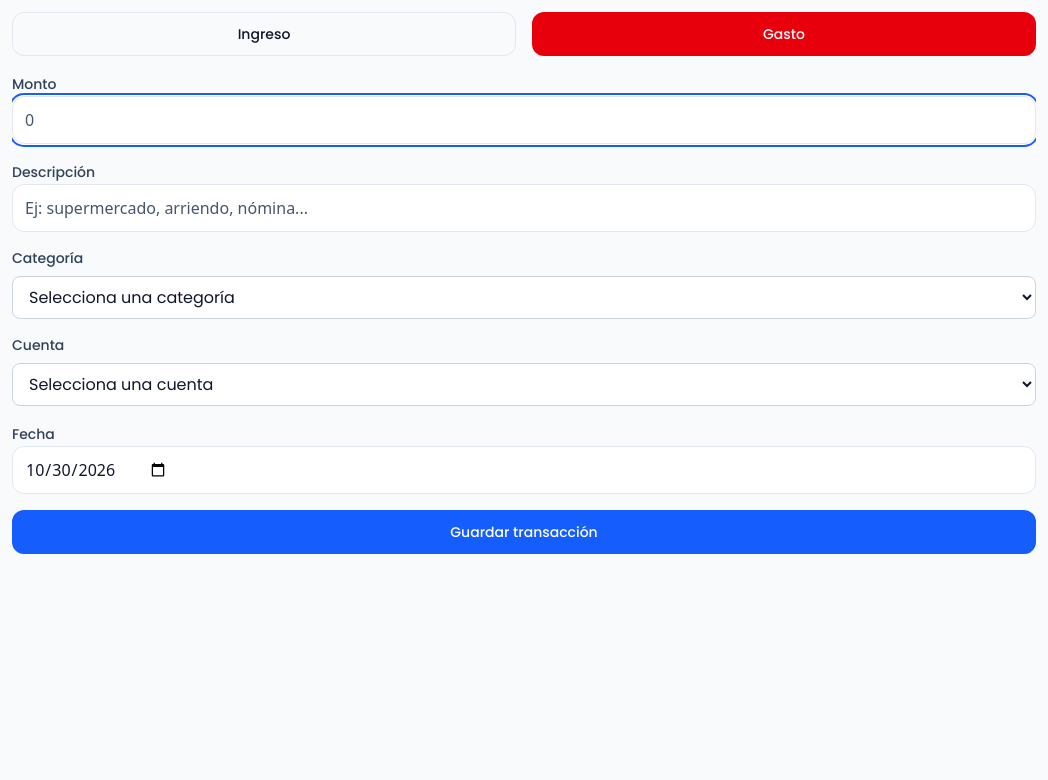
TransactionForm AI diagnostic notice › mentions the local rules when the fallback produced the suggestion
The image size is (1048, 780).
Type "almuerzo" into the field with test id "description-input".
click(524, 208); type("almuerzo")  # box [12,184,1036,232]
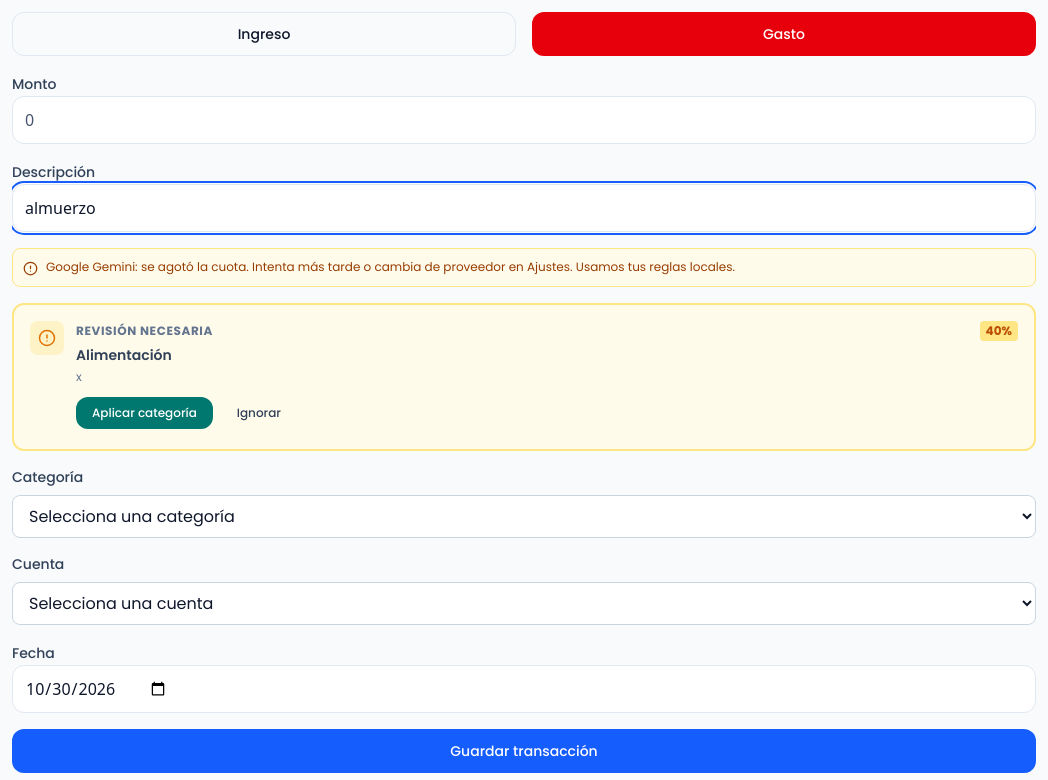
Now the element with test id "ai-diagnostic-notice" shows "cuota", box [46,258,735,275]
Now the element with test id "ai-diagnostic-notice" shows "reglas locales", box [46,258,735,275]
